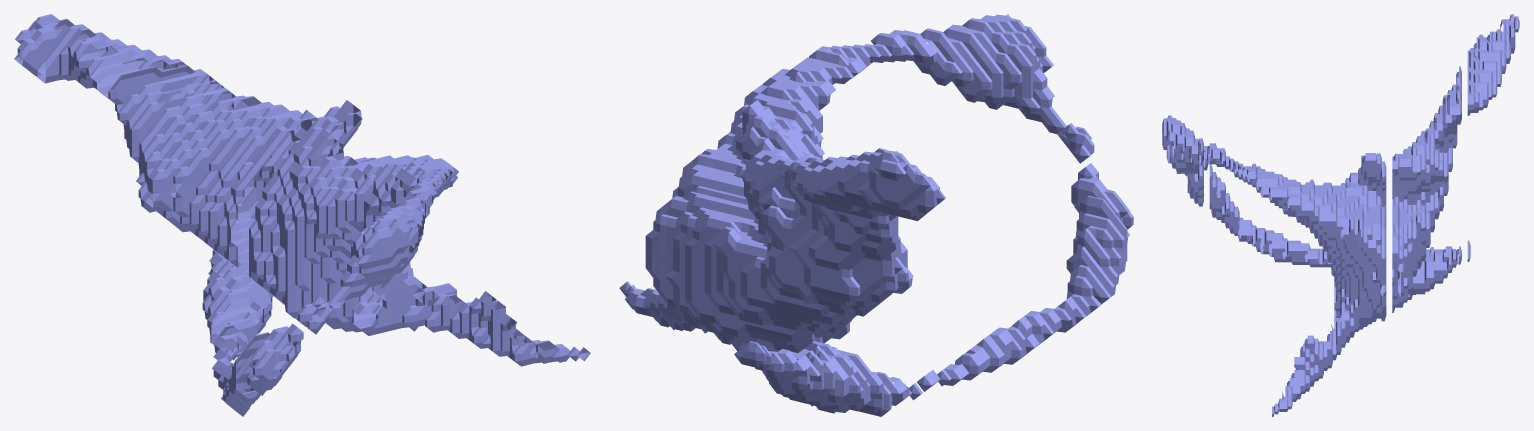
Rendered from SVV_IL1VL.gltf.
The picture shows the model from 3 angles, left to right: view 1: azimuth 30°, elevation 25°; view 2: azimuth 150°, elevation 25°; view 3: azimuth 270°, elevation 25°; orthographic projection. The views are drawn at different scales.
Parts seen in each view (by area): view 1: IL1VL; view 2: IL1VL; view 3: IL1VL.
Boxes of the visible parts, x1,y1,x2,y2 form: IL1VL: (14, 14, 590, 416); IL1VL: (619, 14, 1133, 416); IL1VL: (1162, 14, 1519, 416).
Bounding box in the file's own units: 33293 × 24071 × 30870.
